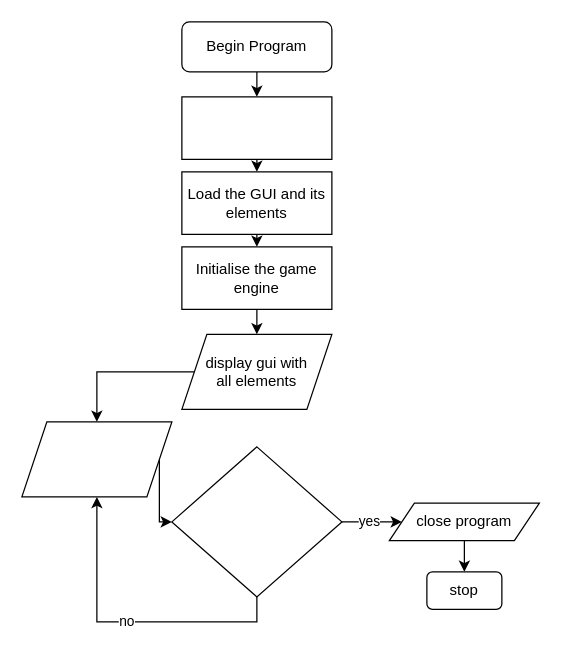
Image size: 561x654. Some labels were removed from this diagram. The centre of each missing label's shape, as x and y in pixels:
Generate random sequence of cells: point 256,127
handle user's input: point 96,459
has user clicked the 'x' to close program: point 256,521
